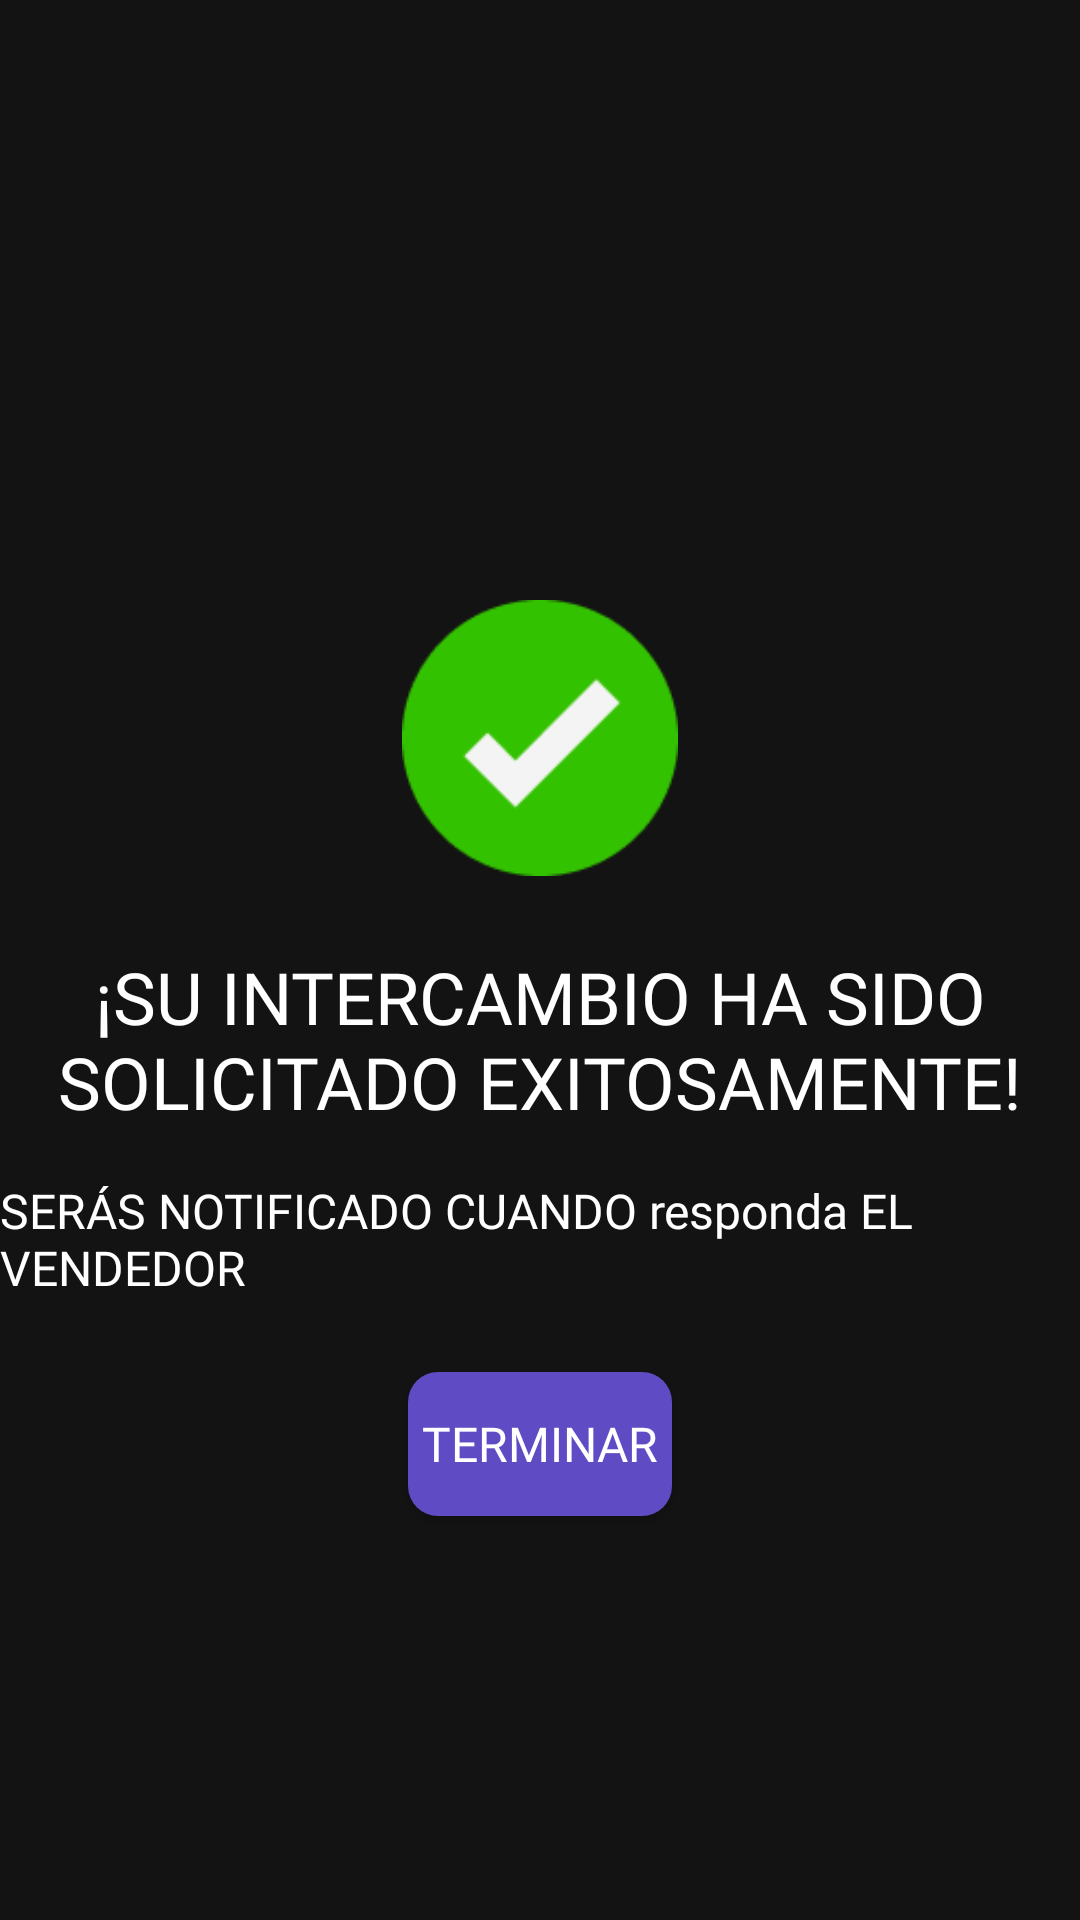

Icons on this 1080x1920 Android screen, each with its box as (x1, y1, x2, y2):
check: (402, 600, 678, 876)
